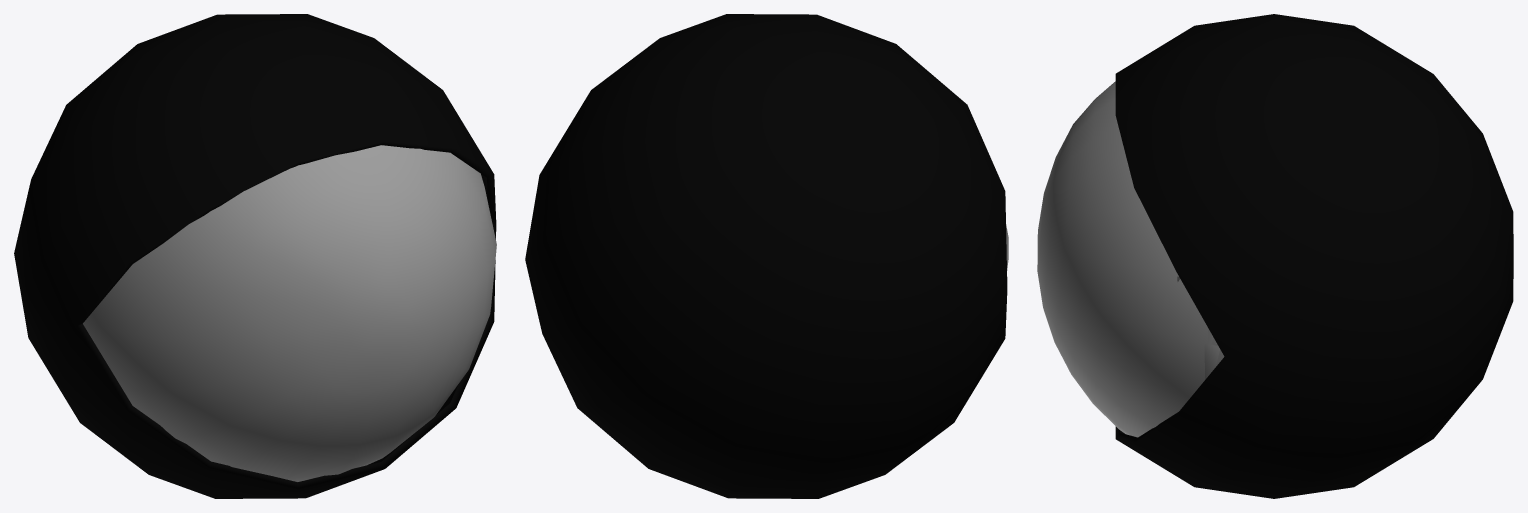
File: catEye.fbx
3 renders of one model, left to right at view 1: azimuth 30°, elevation 25°; view 2: azimuth 150°, elevation 25°; view 3: azimuth 270°, elevation 25°, orthographic.
Visible parts, largest first — view 1: Mesh2; view 2: Mesh2; view 3: Mesh2.
Part boxes in pixels (x1,y1,x2,y2): Mesh2: (14,14,496,498); Mesh2: (525,14,1008,498); Mesh2: (1037,14,1513,498).
Size of the model in its own units: 206 by 207 by 205.
Materials: 2 (2 with a texture image).
